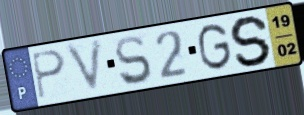2: (154, 29, 189, 82)
G: (197, 21, 234, 73)
P: (29, 48, 68, 102)
S: (228, 14, 273, 68), (113, 33, 155, 88)
V: (62, 36, 105, 97)
